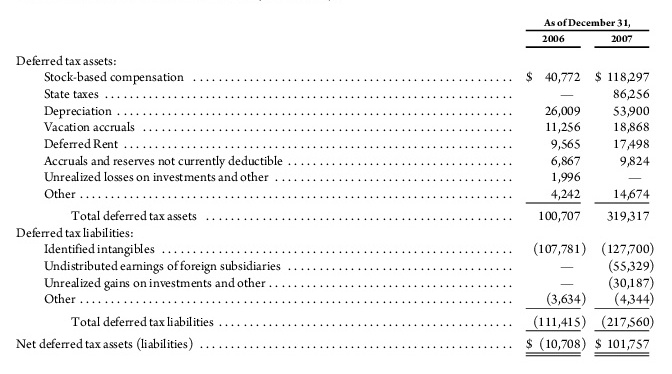table: (0, 0, 672, 374)
